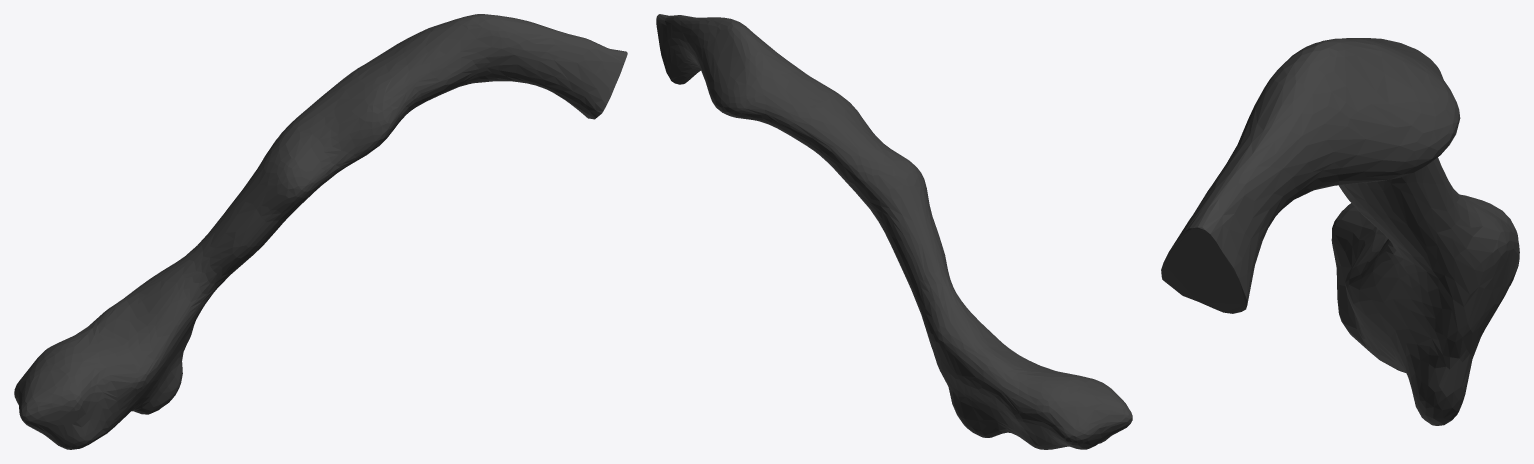
Rendered from Ventricle_4_lat_recess_R.glb.
The picture shows the model from 3 angles, left to right: view 1: azimuth 30°, elevation 25°; view 2: azimuth 150°, elevation 25°; view 3: azimuth 270°, elevation 25°; orthographic projection. The views are drawn at different scales.
Visible parts, largest first — view 1: Ventricle_4_lat_recess_R; view 2: Ventricle_4_lat_recess_R; view 3: Ventricle_4_lat_recess_R.
Boxes of the visible parts, bbox=[...] form: Ventricle_4_lat_recess_R: bbox=[14, 14, 627, 449]; Ventricle_4_lat_recess_R: bbox=[656, 14, 1132, 449]; Ventricle_4_lat_recess_R: bbox=[1161, 38, 1519, 425].
Size of the model in its own units: 0.0223 by 0.0134 by 0.00668.
1 material, 1 textured.
